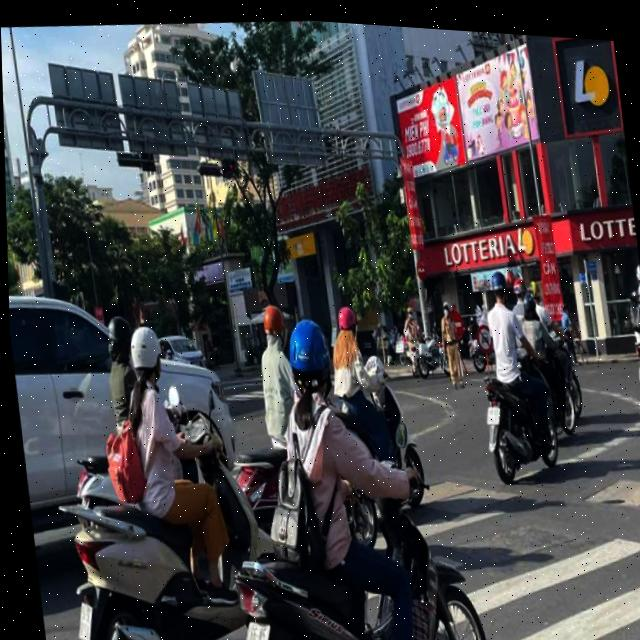car: (8, 282, 145, 568)
motorcycle: (215, 437, 493, 640), (45, 390, 268, 640), (474, 341, 589, 492), (628, 328, 640, 434)
plate: (233, 616, 279, 640)
